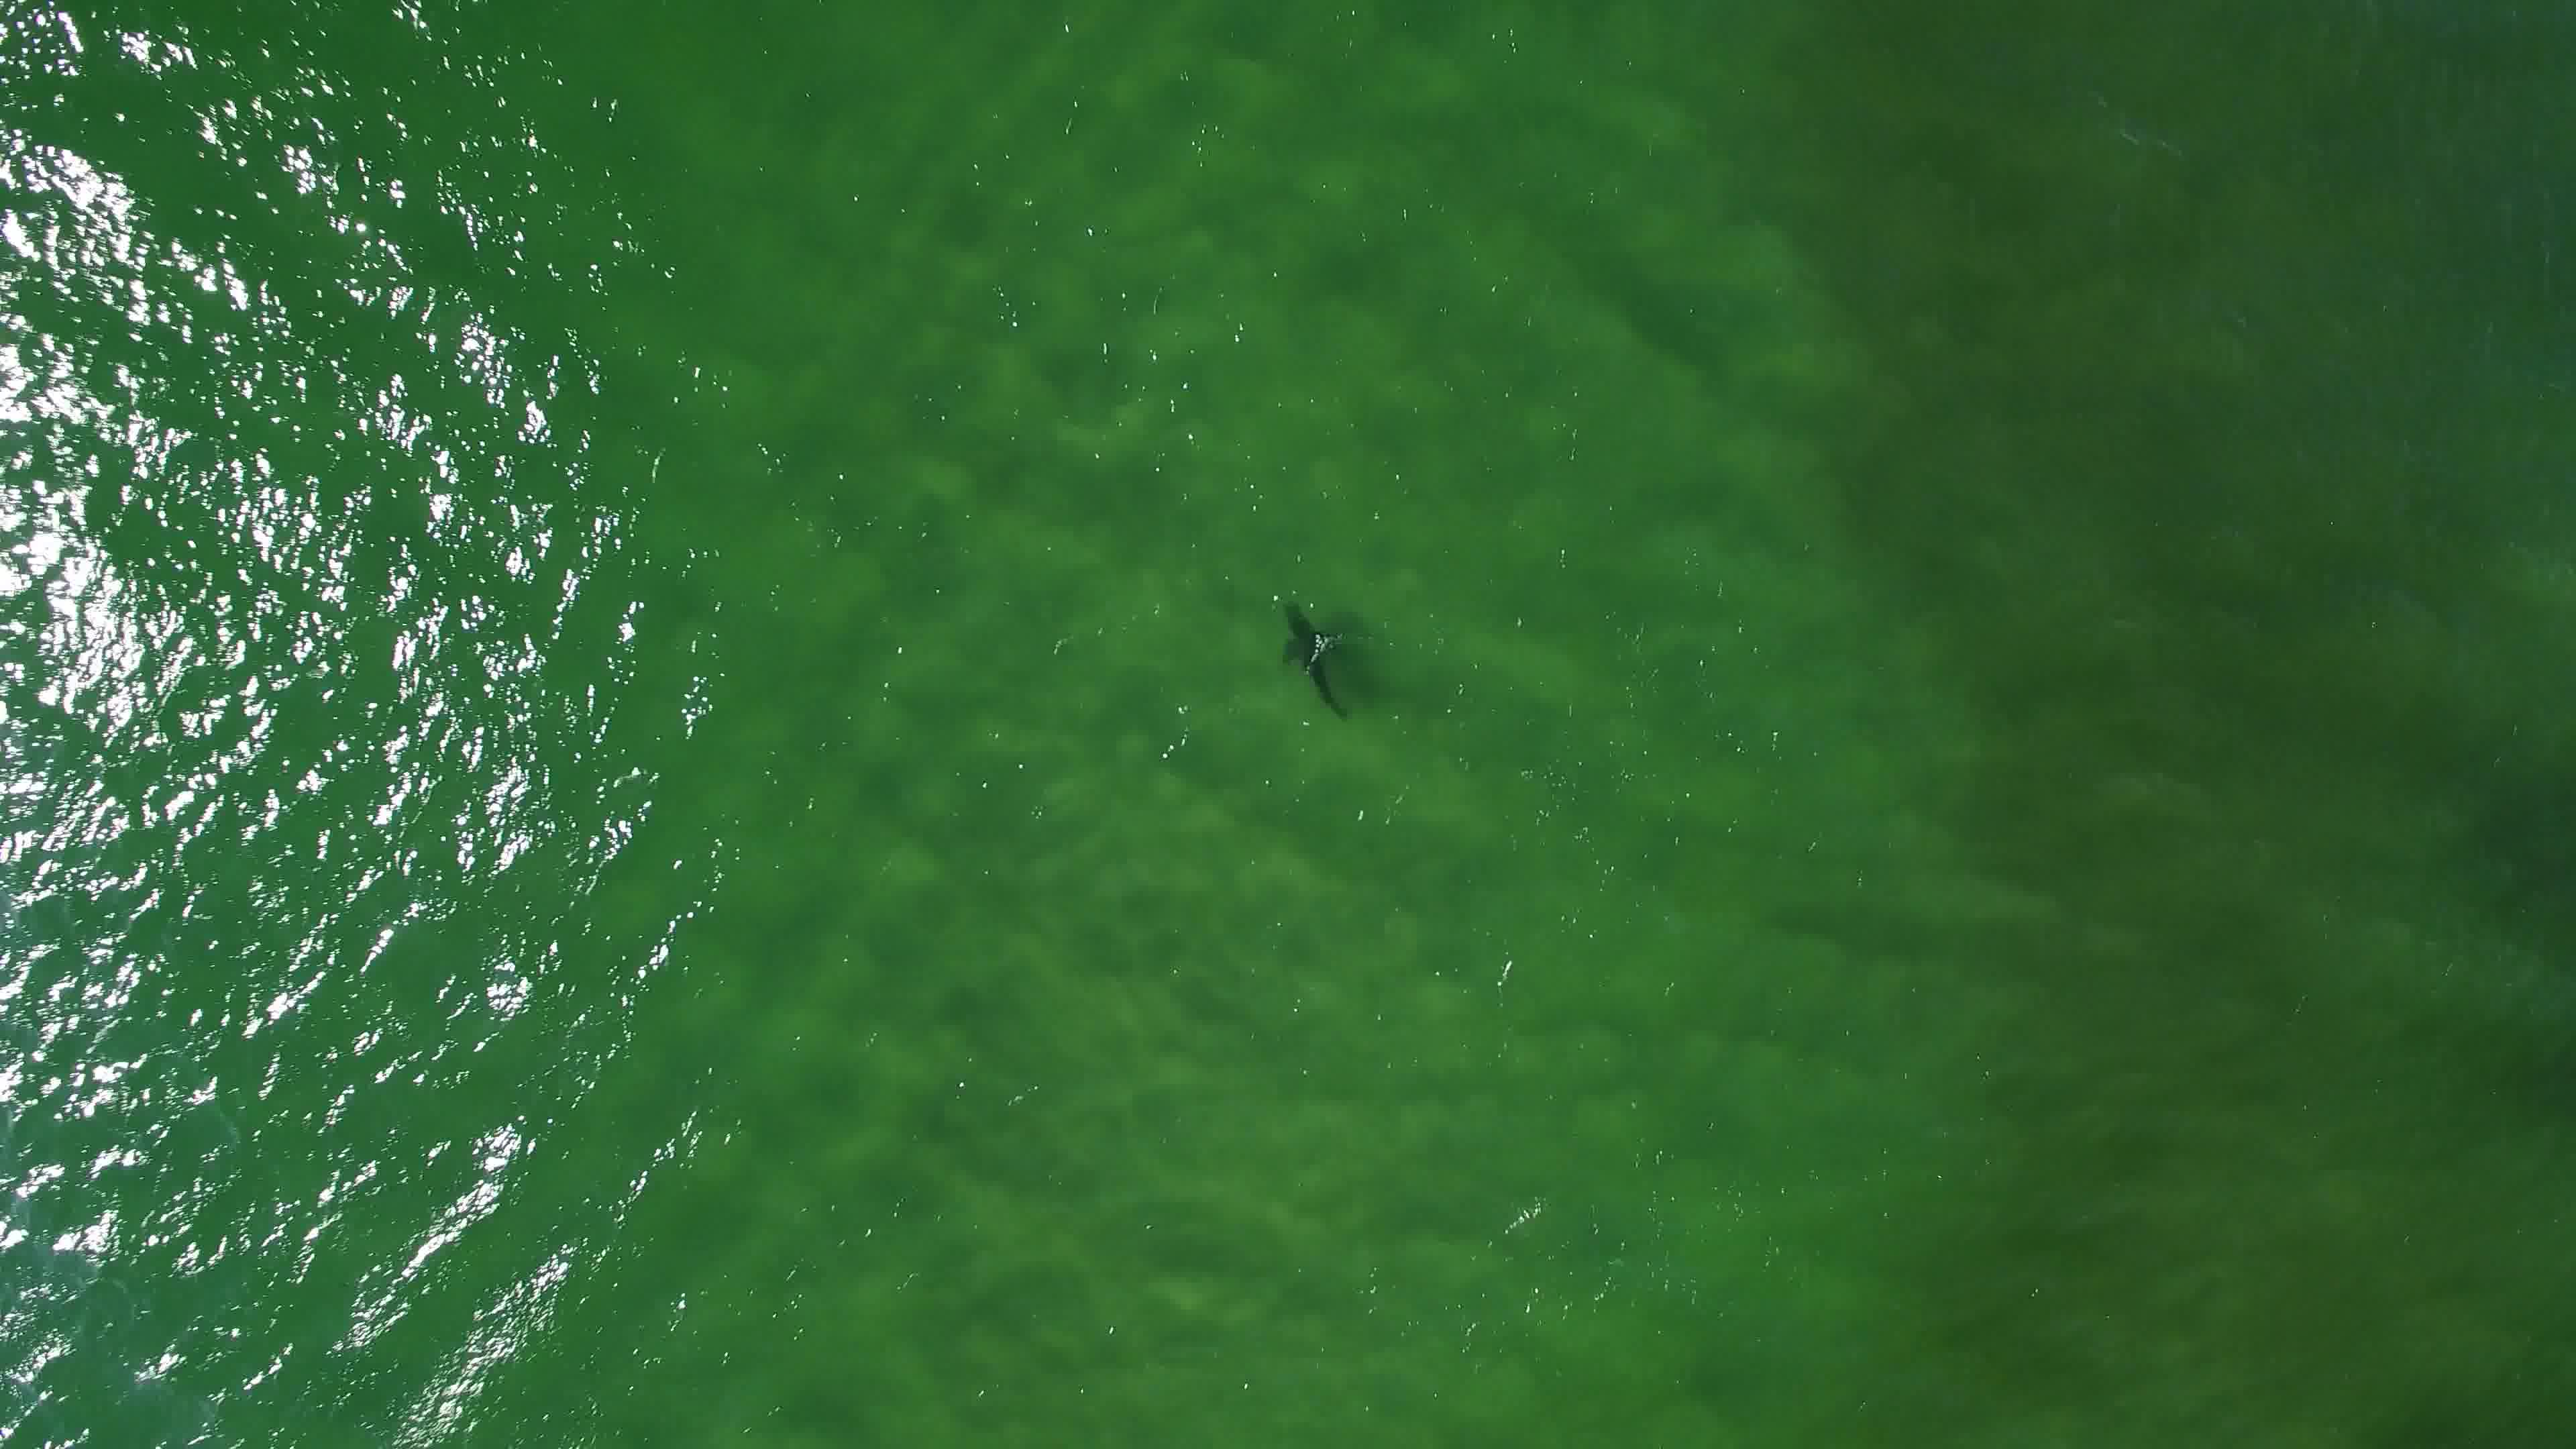shark: (1276, 600, 1361, 725)
